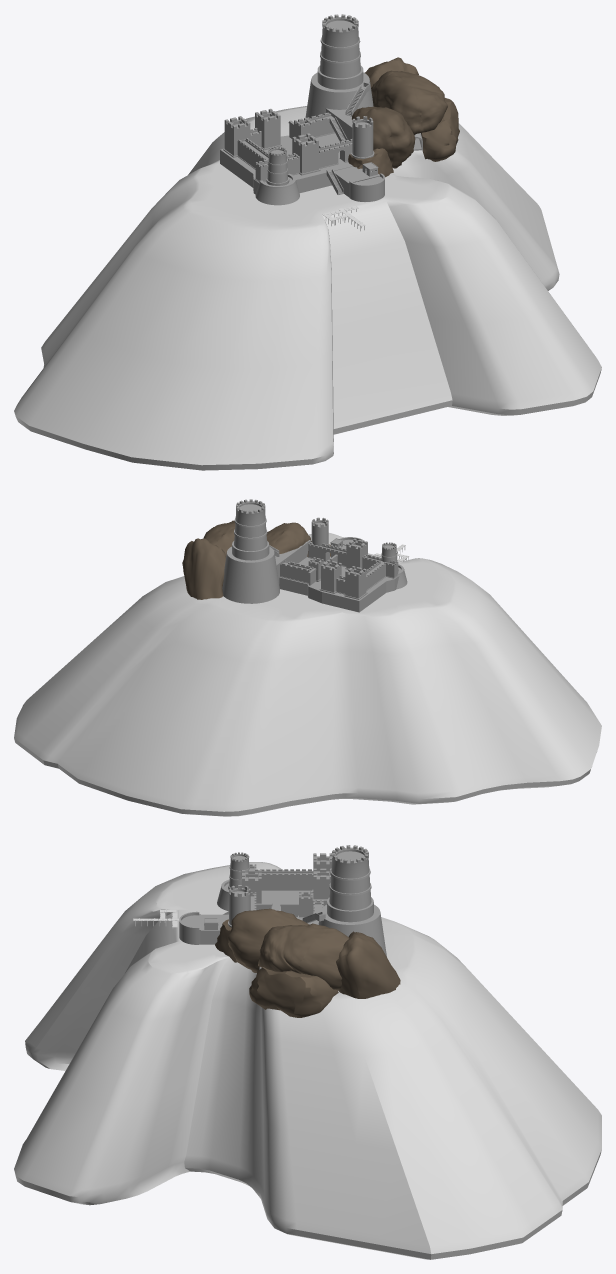
The model's file is Blocking Castle Demo 1.fbx.
The picture shows the model from 3 angles, top to bottom: view 1: azimuth 30°, elevation 25°; view 2: azimuth 150°, elevation 25°; view 3: azimuth 270°, elevation 25°; orthographic projection. The views are drawn at different scales.
Parts seen in each view (by area): view 1: Plane, Cylinder.002, rock.005, Cylinder.006, Cylinder.008, rock.004, Cylinder.005, rock.003, Cylinder.003, Cylinder.001, Cube.022, Cube.006 (+5 smaller); view 2: Plane, Cylinder.006, rock.009, Cylinder.002, Cube.004, Cube.006, Cube.022, Cylinder.001; view 3: Plane, Cylinder.008, Cylinder.002, rock.009, rock.004, rock.003, rock.007, Cylinder.005, Cylinder.006, Cylinder.001, rock.008, Cylinder.004.
Part boxes in pixels (x1,y1,x2,y2): Plane: (14, 106, 601, 470); Cylinder.002: (317, 14, 363, 89); rock.005: (376, 73, 421, 134); Cylinder.006: (305, 72, 373, 118); Cylinder.008: (421, 97, 459, 161); rock.004: (394, 73, 447, 132); Cylinder.005: (334, 166, 384, 201); rock.003: (375, 108, 415, 168); Cylinder.003: (255, 173, 299, 205); Cylinder.001: (351, 116, 374, 159); Cube.022: (292, 133, 320, 175); Cube.006: (255, 108, 281, 150); Plane: (14, 533, 601, 816); Cylinder.006: (222, 546, 279, 603); rock.009: (182, 538, 225, 599); Cylinder.002: (232, 499, 269, 560); Cube.004: (344, 566, 367, 599); Cube.006: (319, 560, 341, 593); Cube.022: (345, 538, 367, 570); Cylinder.001: (311, 517, 328, 546); Plane: (14, 862, 601, 1259); Cylinder.008: (249, 967, 338, 1017); Cylinder.002: (327, 845, 373, 922); rock.009: (344, 931, 400, 998); rock.004: (258, 927, 327, 971); rock.003: (228, 910, 282, 972); rock.007: (295, 928, 348, 989); Cylinder.005: (179, 911, 228, 944); Cylinder.006: (318, 904, 386, 956); Cylinder.001: (228, 885, 250, 927); rock.008: (336, 944, 360, 998); Cylinder.004: (228, 852, 249, 889).
Size of the model in its own units: 8703 by 10589 by 4779.
